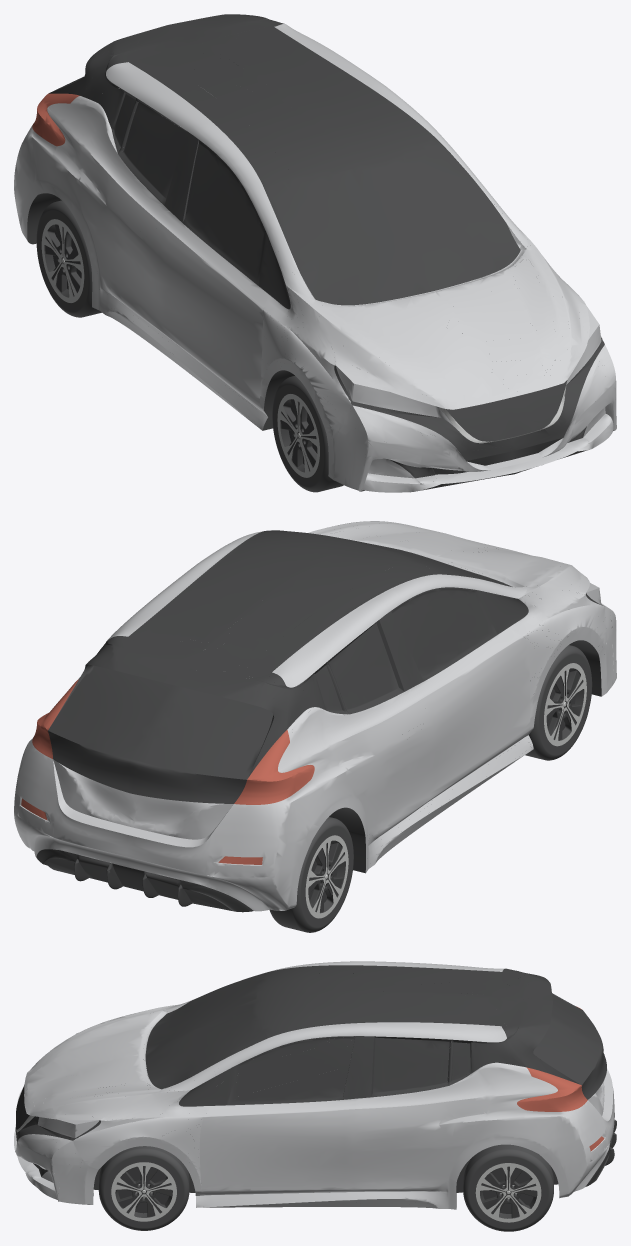
File: leaf.glb
3 views of the same model, one above another, from view 1: azimuth 30°, elevation 25°; view 2: azimuth 150°, elevation 25°; view 3: azimuth 270°, elevation 25° (orthographic). The views are drawn at different scales.
Parts seen in each view (by area): view 1: Object_4, Object_2, Object_3; view 2: Object_2, Object_4, Object_3; view 3: Object_2, Object_4, Object_3.
Boxes of the visible parts, bbox=[...] form: Object_4: bbox=[76, 25, 612, 492]; Object_2: bbox=[14, 14, 587, 489]; Object_3: bbox=[36, 37, 616, 492]; Object_2: bbox=[14, 521, 604, 912]; Object_4: bbox=[127, 530, 616, 868]; Object_3: bbox=[48, 521, 616, 932]; Object_2: bbox=[24, 965, 616, 1222]; Object_4: bbox=[17, 961, 570, 1207]; Object_3: bbox=[14, 968, 562, 1231].
Size of the model in its own units: 1.84 by 1.58 by 4.48.
